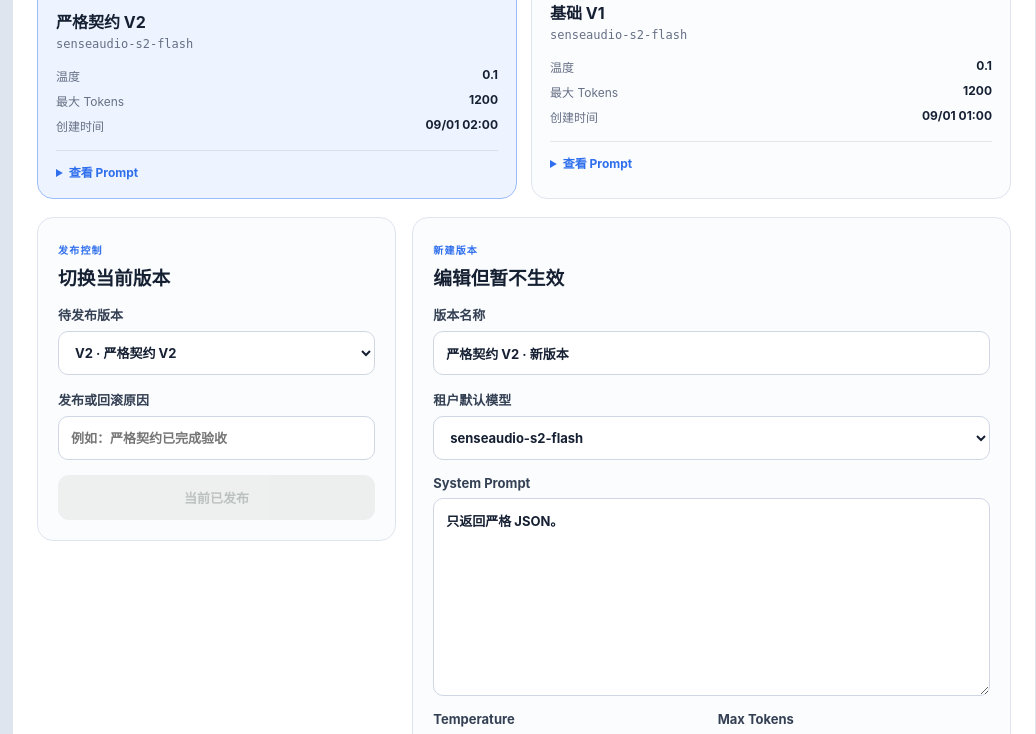
SystemManagementWorkspace › creates an immutable version before allowing a separate release
(page scrolled)
Check: the heading "严格契约 V2" is shown, box x1=56 y1=12 x2=146 y2=32
Step 1. Replace the text in the field labelled "版本名称" with "销售跟进拆解 V3" → (712, 353), box x1=433 y1=331 x2=990 y2=375
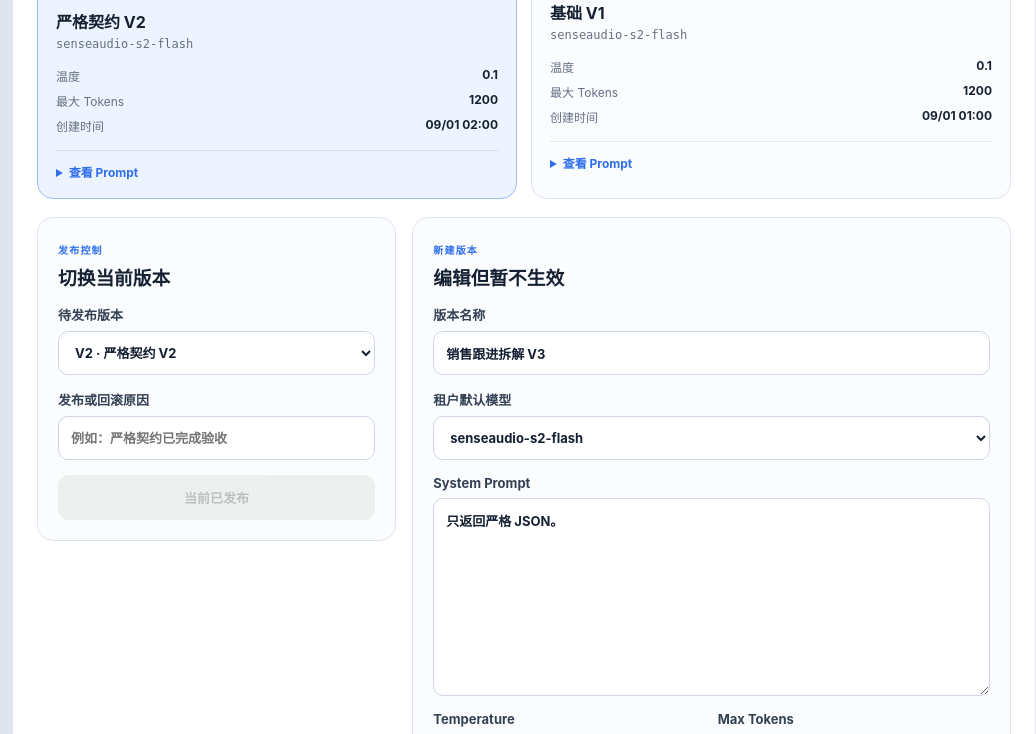
Step 2. Replace the text in the text box labelled "System Prompt" with "只提取明确事实并返回严格 JSON。" → (712, 597), box x1=433 y1=498 x2=990 y2=696
(page scrolled)
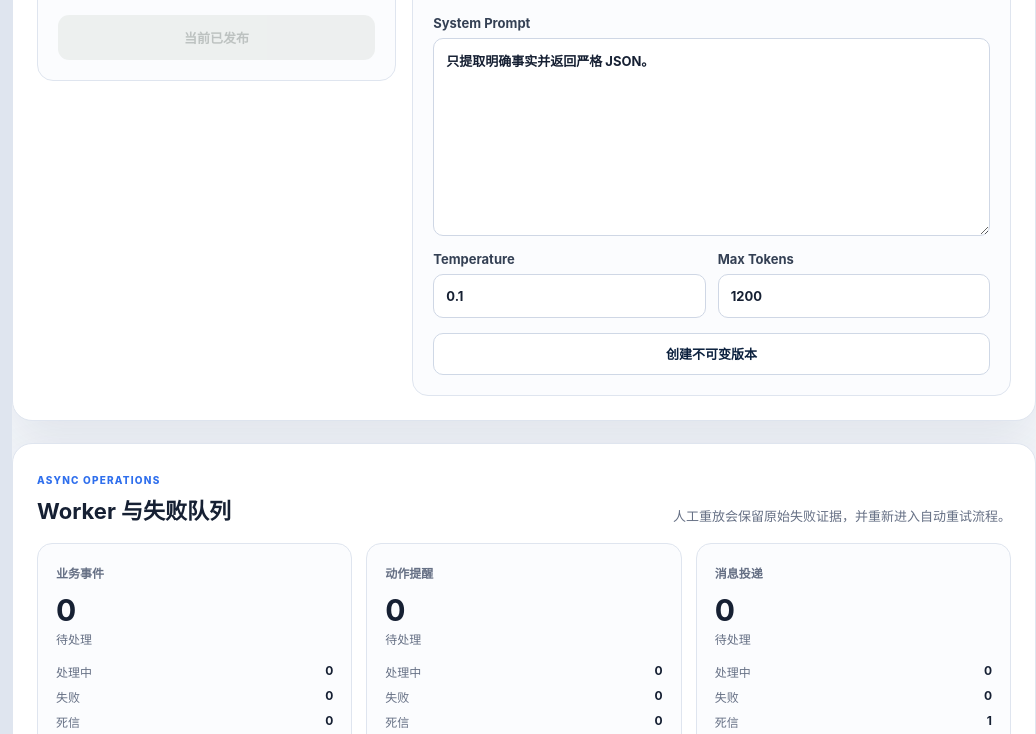
Step 3. Click the button "创建不可变版本" → (712, 354), box x1=433 y1=333 x2=990 y2=375
(page scrolled)
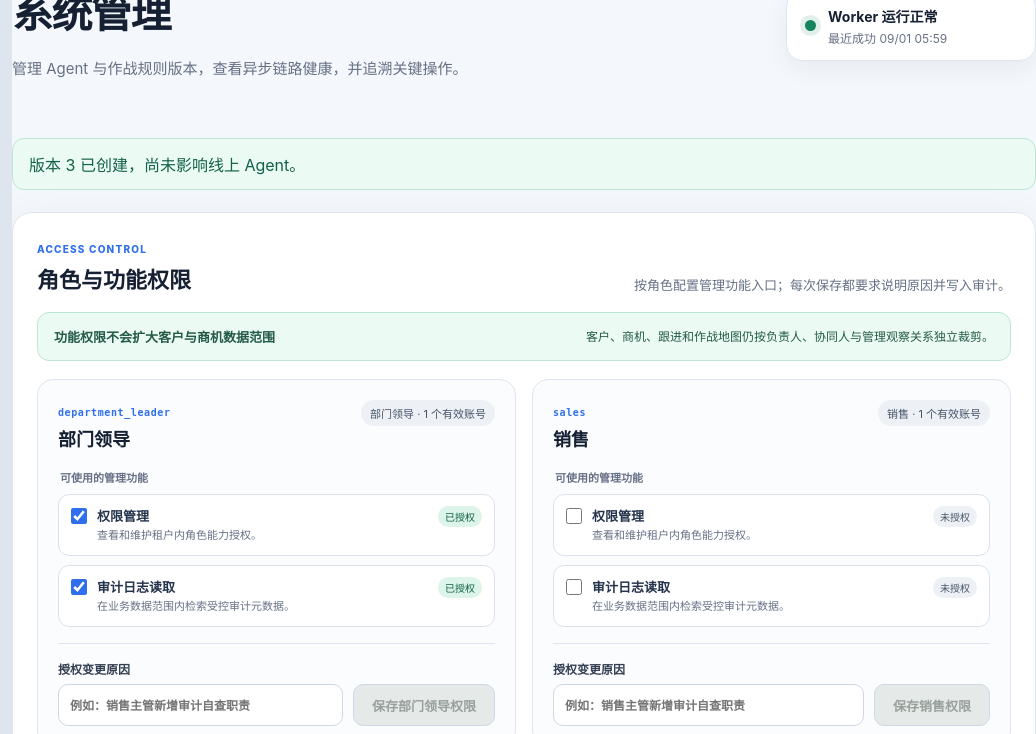
Check: the text "版本 3 已创建，尚未影响线上 Agent。" is shown, box x1=12 y1=138 x2=1035 y2=190
